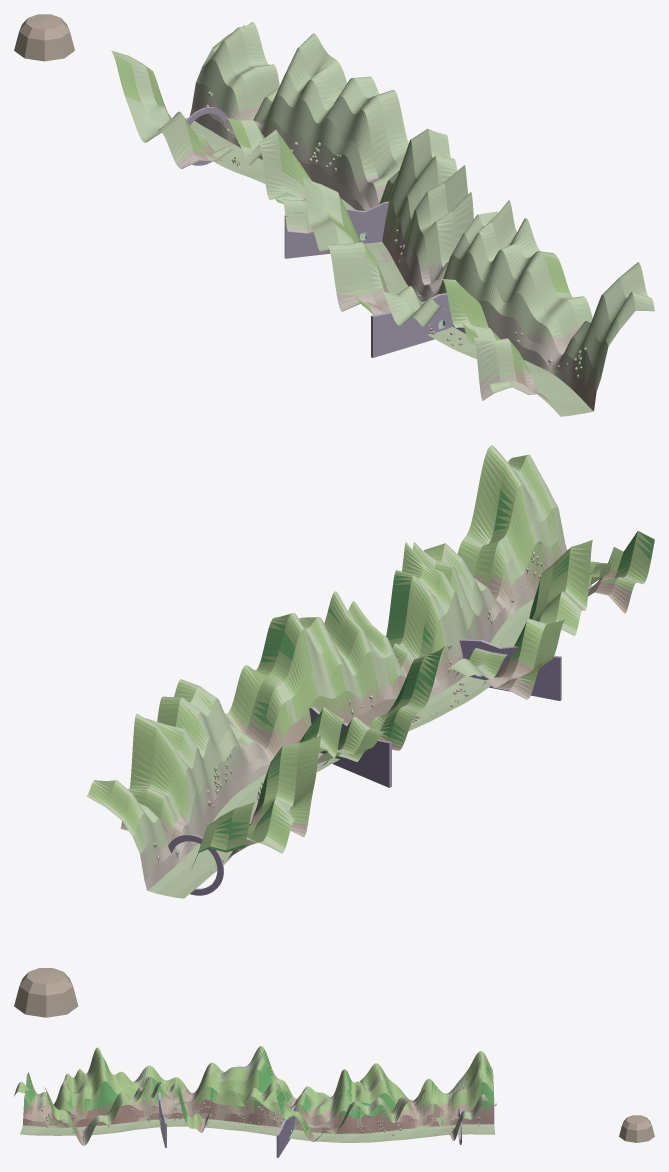
Rendered from level_6.glb.
3 views of the same model, one above another, from view 1: azimuth 30°, elevation 25°; view 2: azimuth 150°, elevation 25°; view 3: azimuth 270°, elevation 25° (orthographic). The views are drawn at different scales.
Visible parts, largest first — view 1: terrain_9, terrain_0, terrain_4, terrain_1, terrain_6, terrain_7, terrain_2, terrain_8, terrain_3, terrain_5, wall_0, landmark (+1 smaller); view 2: terrain_0, terrain_5, terrain_8, terrain_7, terrain_3, terrain_4, terrain_2, terrain_9, terrain_6, terrain_1, landmark, wall_0 (+1 smaller); view 3: terrain_1, terrain_4, terrain_7, terrain_9, terrain_3, terrain_6, terrain_2, terrain_8, terrain_0, terrain_5, landmark, wall_1 (+1 smaller).
Boxes of the visible parts, box(x1,y1,x2,y2) form: terrain_9: box(111, 22, 279, 146); terrain_0: box(473, 262, 654, 416); terrain_4: box(302, 165, 473, 294); terrain_1: box(442, 251, 592, 384); terrain_6: box(254, 90, 408, 211); terrain_7: box(226, 53, 379, 191); terrain_2: box(381, 200, 540, 359); terrain_8: box(143, 33, 326, 178); terrain_3: box(325, 211, 497, 326); terrain_5: box(282, 128, 457, 262); wall_0: box(371, 293, 453, 357); landmark: box(14, 14, 74, 61); terrain_0: box(459, 445, 654, 613); terrain_5: box(241, 613, 427, 770); terrain_8: box(120, 713, 314, 868); terrain_7: box(145, 684, 335, 825); terrain_3: box(386, 570, 555, 714); terrain_4: box(324, 591, 495, 731); terrain_2: box(402, 542, 589, 682); terrain_9: box(86, 780, 281, 898); terrain_6: box(177, 673, 370, 796); terrain_1: box(424, 540, 610, 647); landmark: box(14, 968, 78, 1017); wall_0: box(459, 639, 561, 700); terrain_1: box(69, 1047, 130, 1145); terrain_4: box(207, 1046, 275, 1133); terrain_7: box(354, 1063, 411, 1142); terrain_9: box(447, 1051, 496, 1134); terrain_3: box(162, 1062, 222, 1132); terrain_6: box(299, 1069, 358, 1142); terrain_2: box(108, 1065, 168, 1132); terrain_8: box(391, 1078, 456, 1140); terrain_0: box(14, 1072, 70, 1135); terrain_5: box(247, 1075, 317, 1140); landmark: box(619, 1115, 654, 1142); wall_1: box(276, 1105, 295, 1157).
Bounding box in the file's own units: 644 × 465 × 3154.
